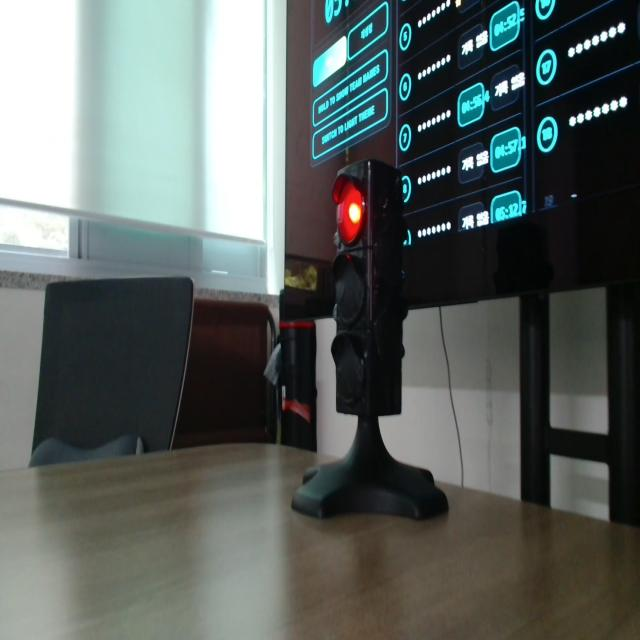red_light: (336, 181, 363, 244), (349, 203, 361, 224)
